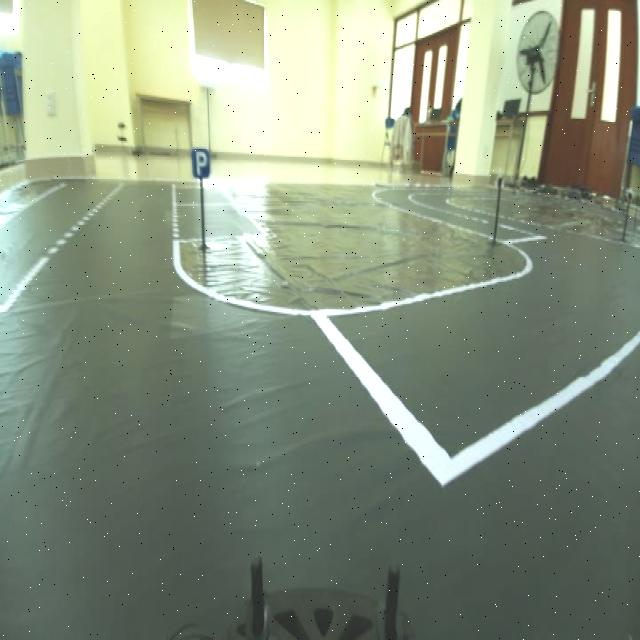parking: (186, 140, 212, 178)
